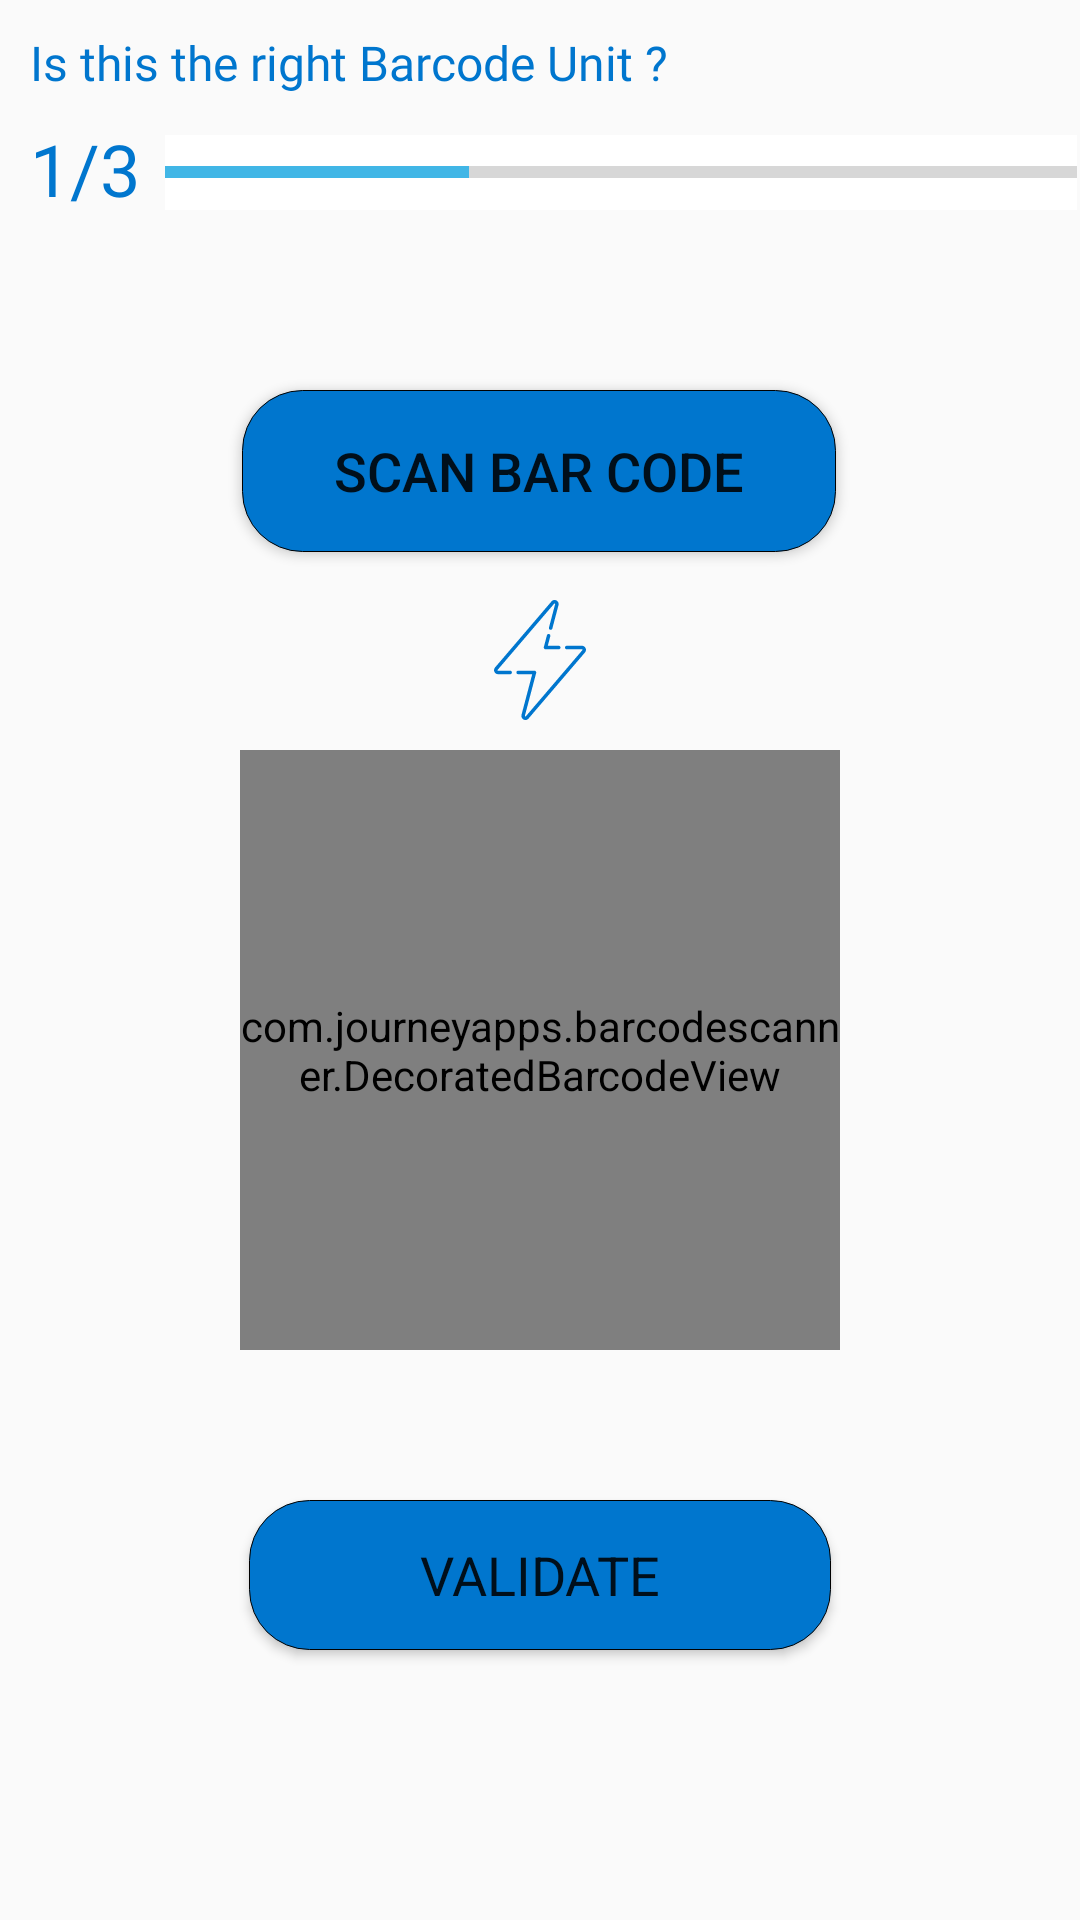

Named icons in this screenshot (1080 x 1920) and their bounding boxes, (x1, y1, x2, y2):
flash on: (494, 600, 586, 720)
